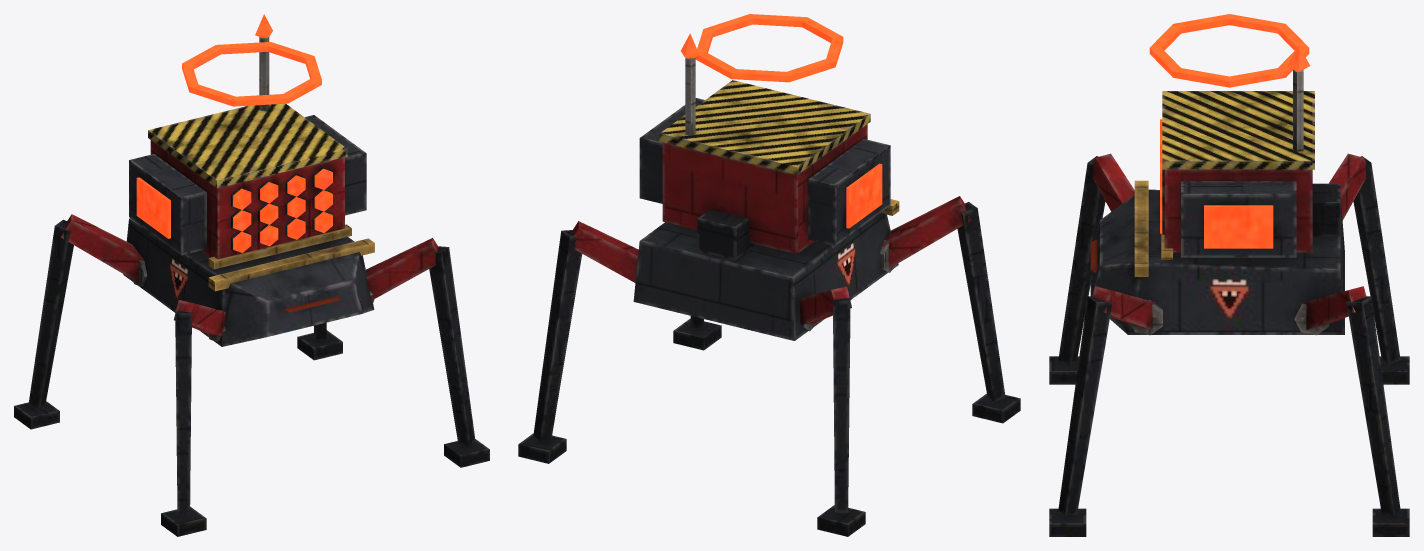
Rendered from u_havoc4_e.glb.
3 renders of one model, left to right at view 1: azimuth 30°, elevation 25°; view 2: azimuth 150°, elevation 25°; view 3: azimuth 270°, elevation 25°, orthographic. The views are drawn at different scales.
Visible parts, largest first — view 1: u_havoc4_e; view 2: u_havoc4_e; view 3: u_havoc4_e.
Part boxes in pixels (box(x1,y1,x2,y2)): u_havoc4_e: box(14, 14, 489, 536); u_havoc4_e: box(518, 14, 1020, 536); u_havoc4_e: box(1049, 14, 1409, 536).
Bounding box in the file's own units: 2.2 × 2.64 × 2.
1 material, 1 textured.
